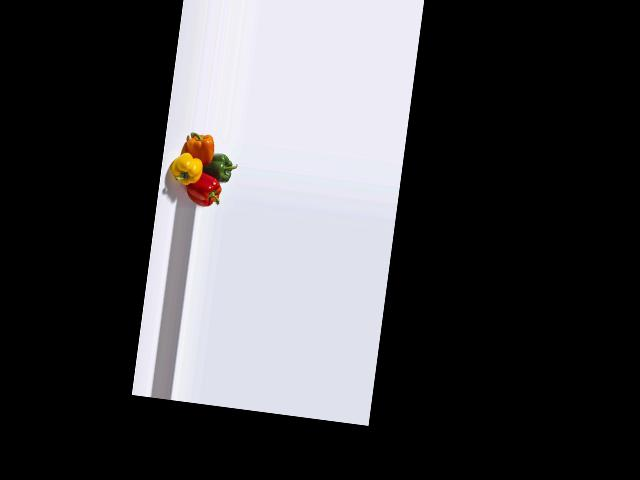bell_pepper: (184, 171, 226, 210)
